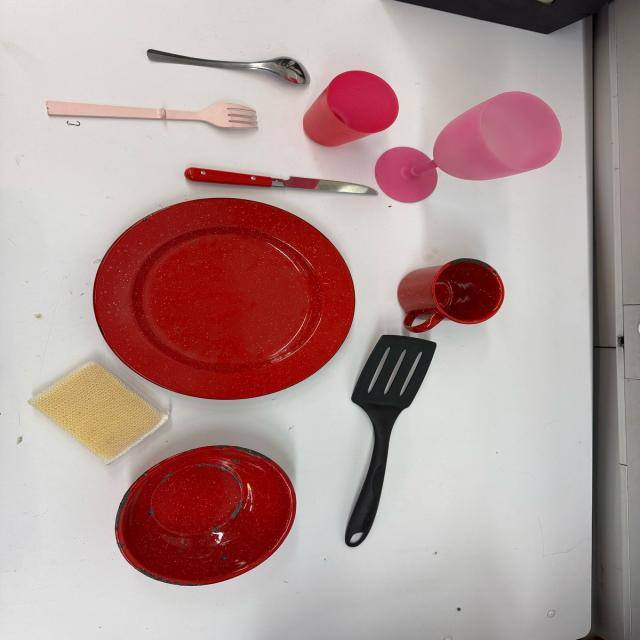cup: (395, 255, 507, 336)
fork: (43, 95, 261, 134)
glass: (299, 66, 402, 152)
knife: (183, 164, 378, 198)
plate: (91, 194, 358, 402)
spatula: (341, 334, 439, 550)
sponge: (27, 356, 173, 466)
spoon: (140, 46, 316, 88)
tazon: (112, 440, 298, 589)
wineglass: (371, 86, 563, 207)
